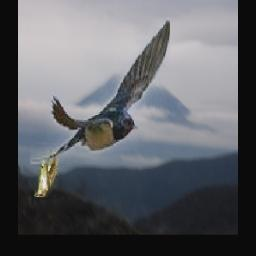Cuckoo: (34, 151, 58, 197)
Swallow: (31, 17, 171, 164)
